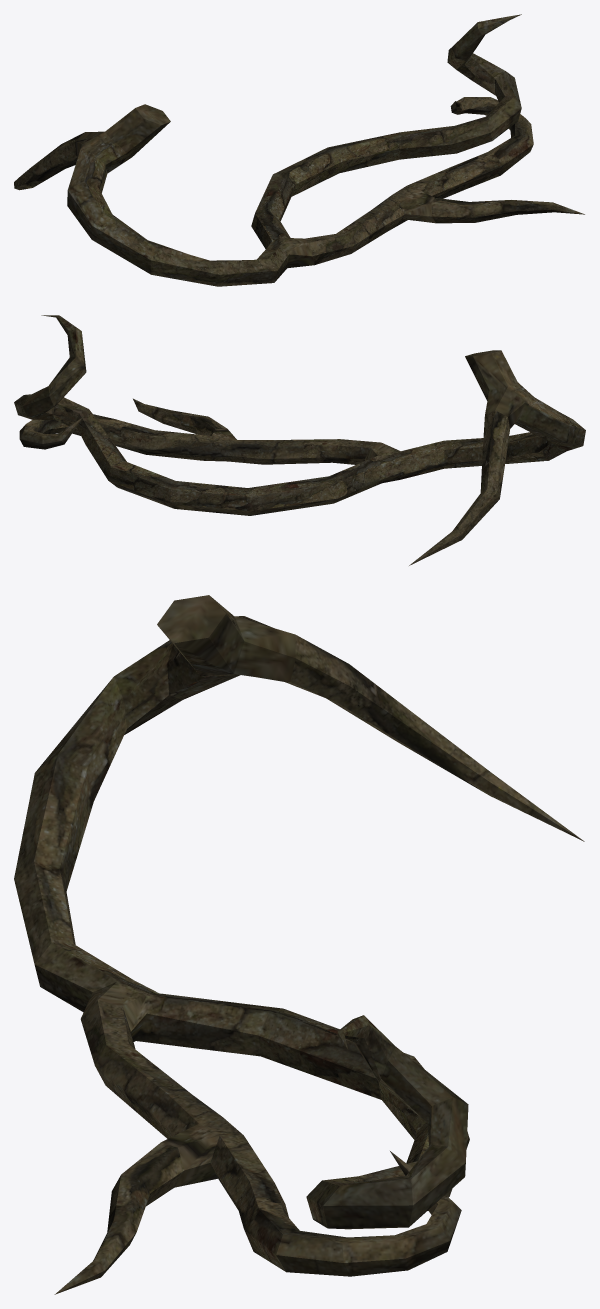
The model's file is Branch.Chairs.fbx.
The picture shows the model from 3 angles, top to bottom: view 1: azimuth 30°, elevation 25°; view 2: azimuth 150°, elevation 25°; view 3: azimuth 270°, elevation 25°; orthographic projection. The views are drawn at different scales.
Visible parts, largest first — view 1: Branch.Chairs; view 2: Branch.Chairs; view 3: Branch.Chairs.
Boxes of the visible parts, bbox=[...] form: Branch.Chairs: bbox=[14, 14, 584, 286]; Branch.Chairs: bbox=[14, 315, 585, 565]; Branch.Chairs: bbox=[14, 595, 584, 1294].
Bounding box in the file's own units: 144 × 47.89 × 75.63.
